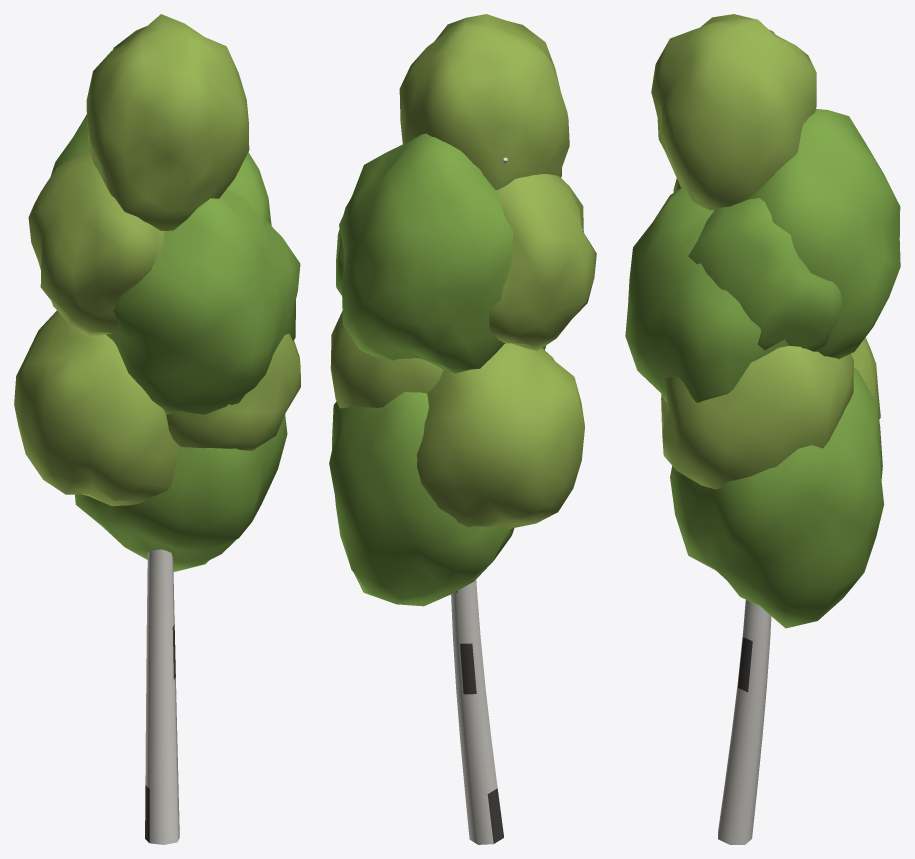
File: birch_2.glb
3 views of the same model, side by side, from view 1: azimuth 30°, elevation 25°; view 2: azimuth 150°, elevation 25°; view 3: azimuth 270°, elevation 25° (orthographic).
Visible parts, largest first — view 1: birch_2; view 2: birch_2; view 3: birch_2.
Boxes of the visible parts, x1,y1,x2,y2 form: birch_2: (14, 14, 300, 844); birch_2: (329, 14, 596, 844); birch_2: (625, 14, 900, 844).
Size of the model in its own units: 3.11 by 10.07 by 3.05.
